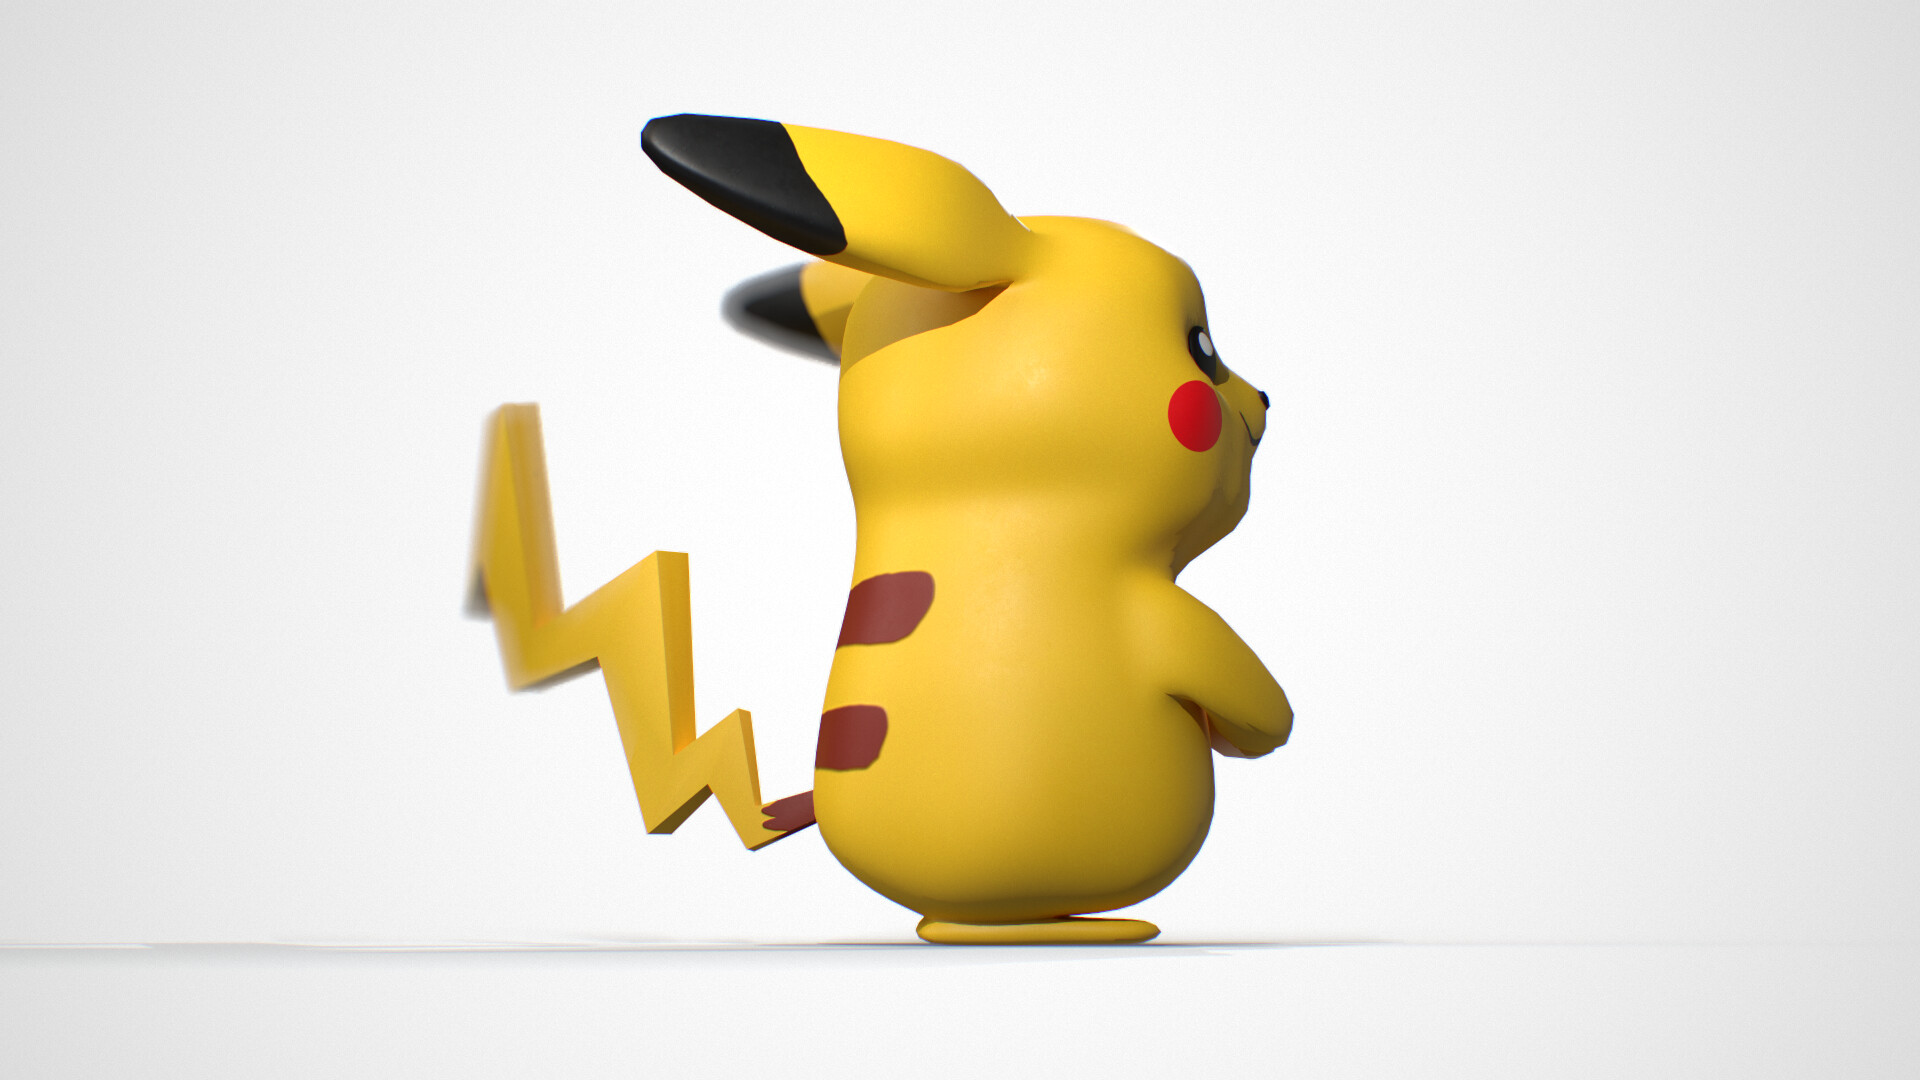Pikachu: (419, 123, 1337, 967)
